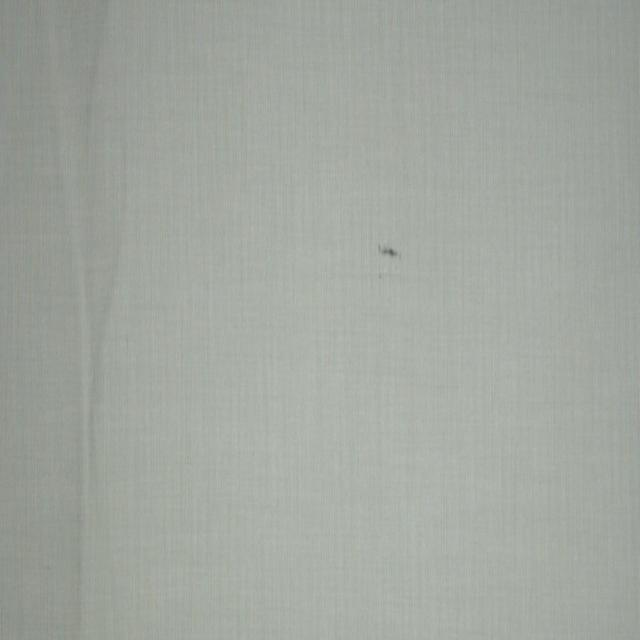dirty: (378, 243, 402, 265), (378, 272, 384, 282)
